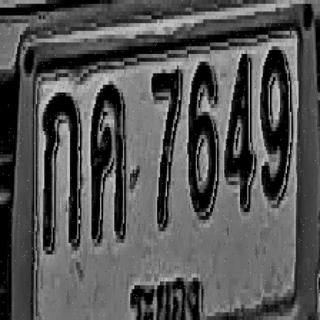A01: (42, 89, 81, 251)
A04: (90, 81, 126, 243)
N04: (224, 52, 254, 210)
N06: (188, 58, 218, 216)
N07: (152, 66, 182, 228)
N09: (261, 46, 291, 200)
P53: (126, 261, 203, 320)
